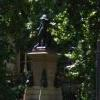Statue: (21, 11, 60, 70)
